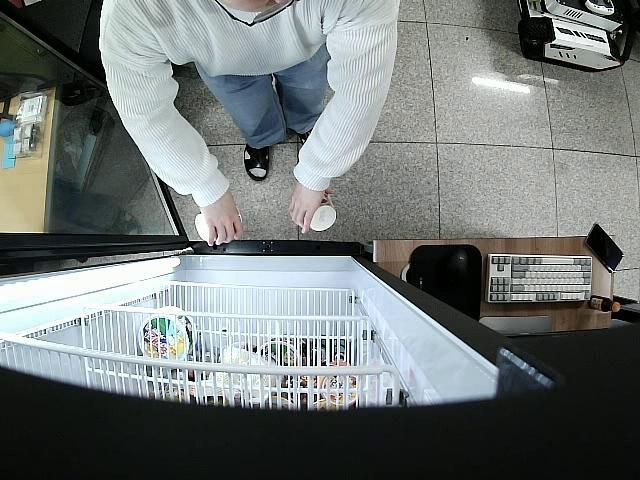04_chapagetti_S: (310, 194, 336, 231), (195, 214, 210, 240)
